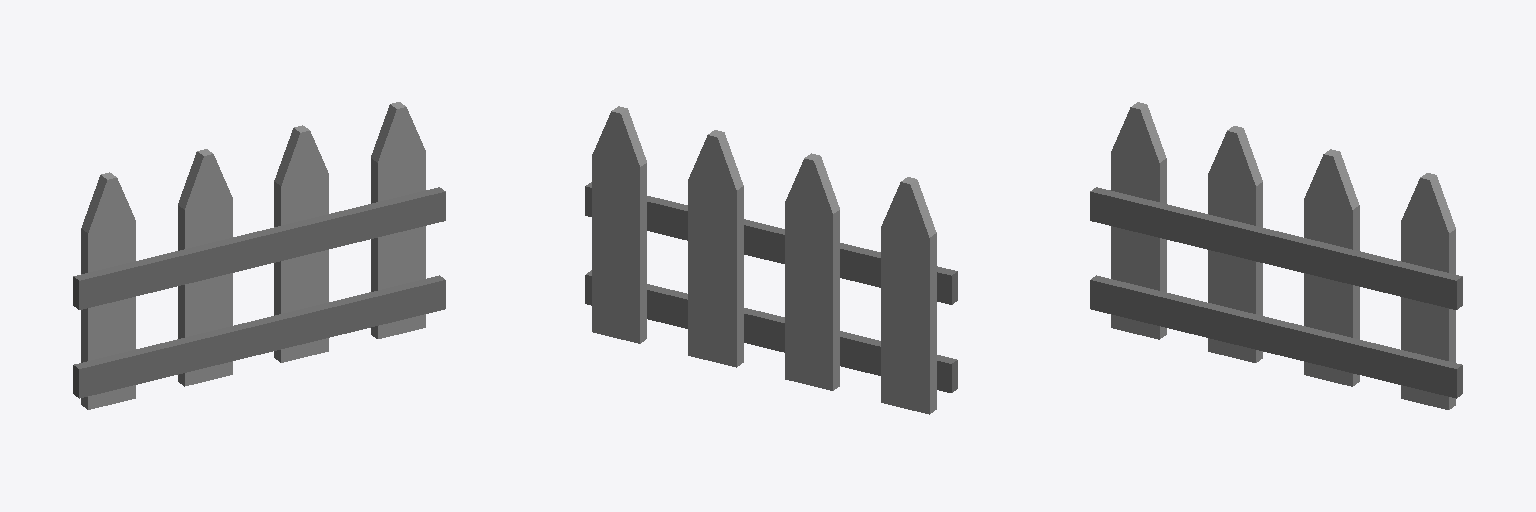
Rendered from recinzione.obj.
3 views of the same model, side by side, from view 1: azimuth 30°, elevation 25°; view 2: azimuth 150°, elevation 25°; view 3: azimuth 330°, elevation 25° (orthographic).
Visible parts, largest first — view 1: Cube.001; view 2: Cube.001; view 3: Cube.001.
Part boxes in pixels (left/top/right/bottom): Cube.001: left=73, top=102, right=445, bottom=409; Cube.001: left=585, top=106, right=957, bottom=414; Cube.001: left=1090, top=102, right=1462, bottom=409.
Size of the model in its own units: 4.34 by 2.55 by 0.2703.